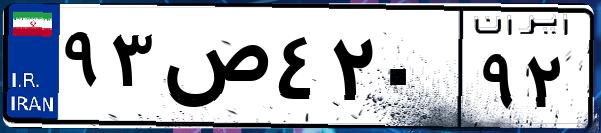0: (385, 28, 445, 110)
2: (330, 28, 385, 110), (525, 38, 570, 115)
3: (110, 28, 158, 98)
4: (270, 28, 330, 110)
9: (57, 26, 110, 100), (475, 38, 525, 113)
ص: (158, 20, 270, 120)
